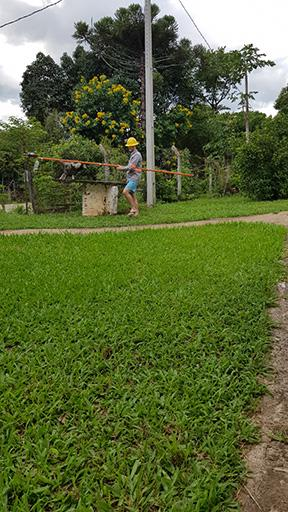Vara_Manobra: (37, 156, 194, 176)
